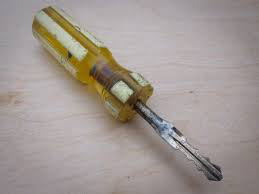screwdriver: (26, 4, 241, 188)
